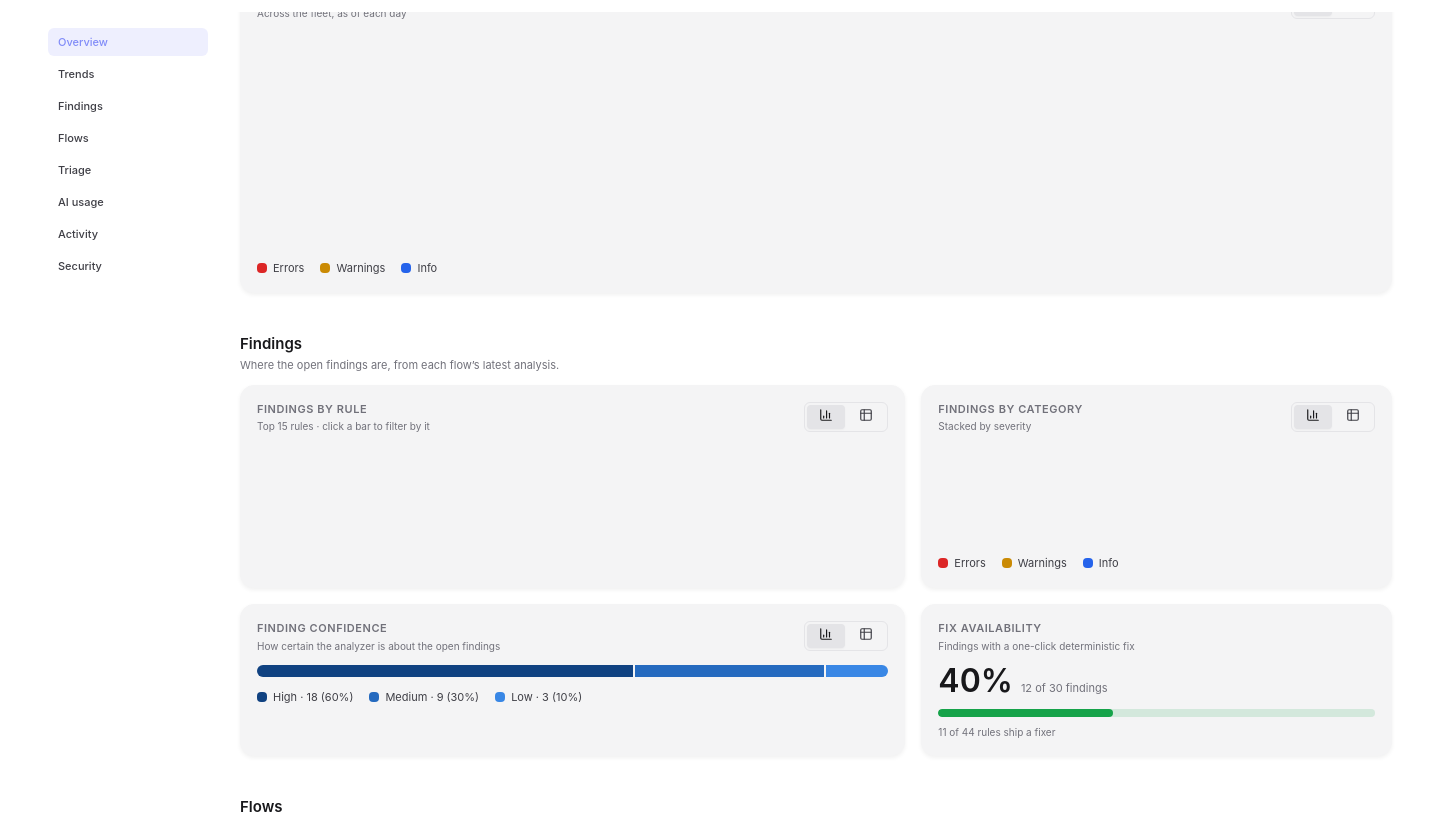
Test: CloudAnalyticsPage › shows the table twin of a chart with every row
(page scrolled)
Click the radio button named "Table" in the row of "Findings by rule".
click(866, 417)  # box top-left (847, 405), bottom-right (885, 429)
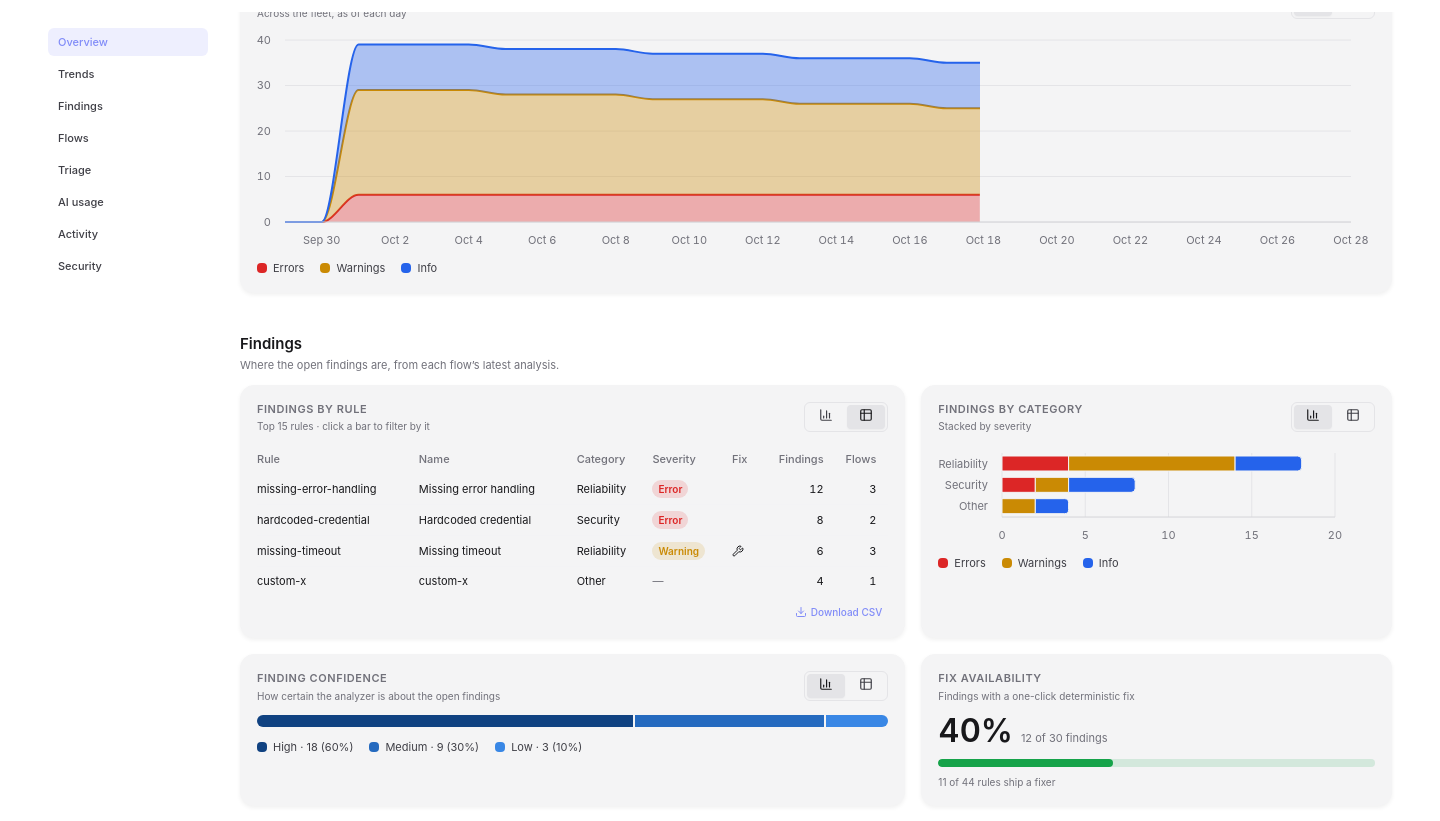
Expected: the number of rows is 5, top-left (257, 445), bottom-right (888, 474); top-left (257, 474), bottom-right (888, 505); top-left (257, 505), bottom-right (888, 536); top-left (257, 536), bottom-right (888, 567); top-left (257, 567), bottom-right (888, 595)
Expected: the 1st text "custom-x" is shown, top-left (257, 567), bottom-right (419, 595)
